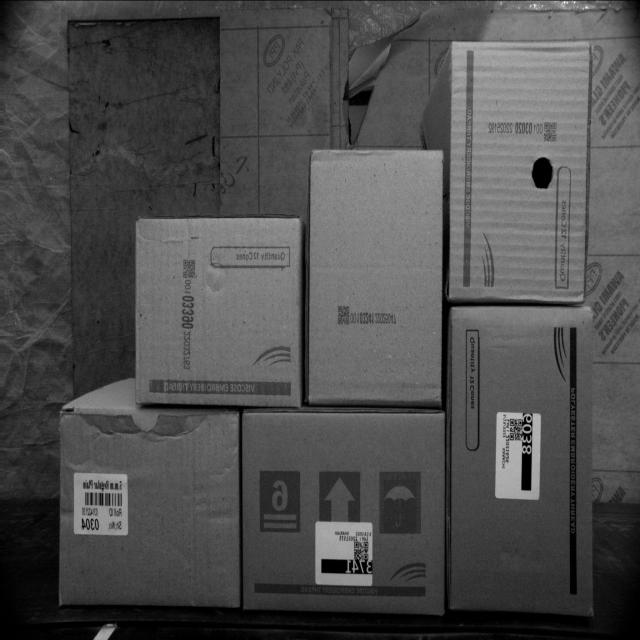cardboxes: (446, 306, 593, 622), (239, 406, 447, 618), (449, 41, 593, 303), (57, 410, 239, 609), (307, 151, 444, 404), (133, 217, 302, 410)
